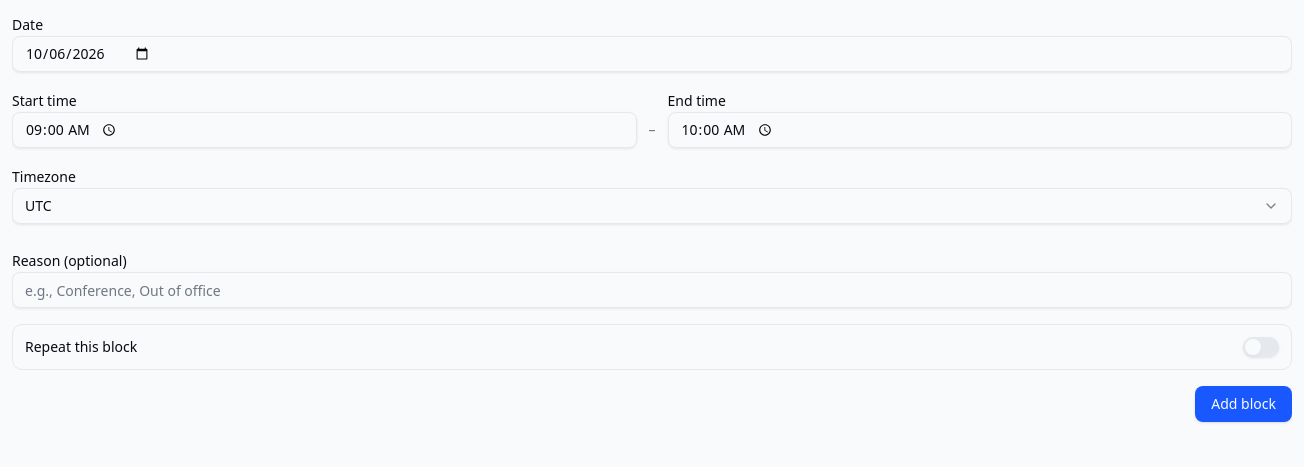
Test: AppointmentTypeBlockForm › create › start_time >= end_time is rejected by the form before any request
In the date field labelled "Date": (652, 54) [12,36,1292,72], type "2026-09-01"
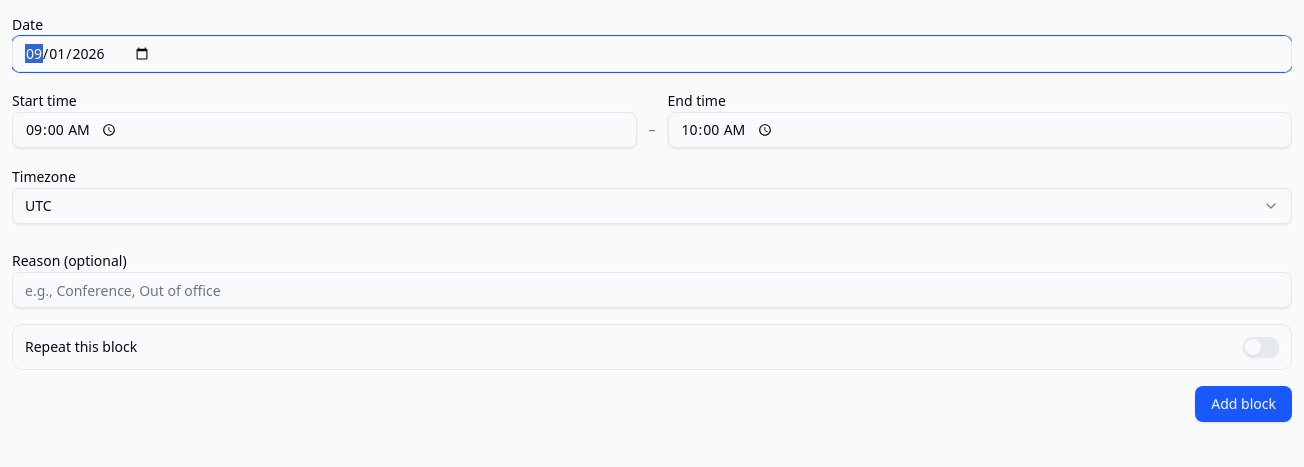
Replace the text in the time field labelled "Start time" with "17:00": (324, 130) [12,112,636,148]
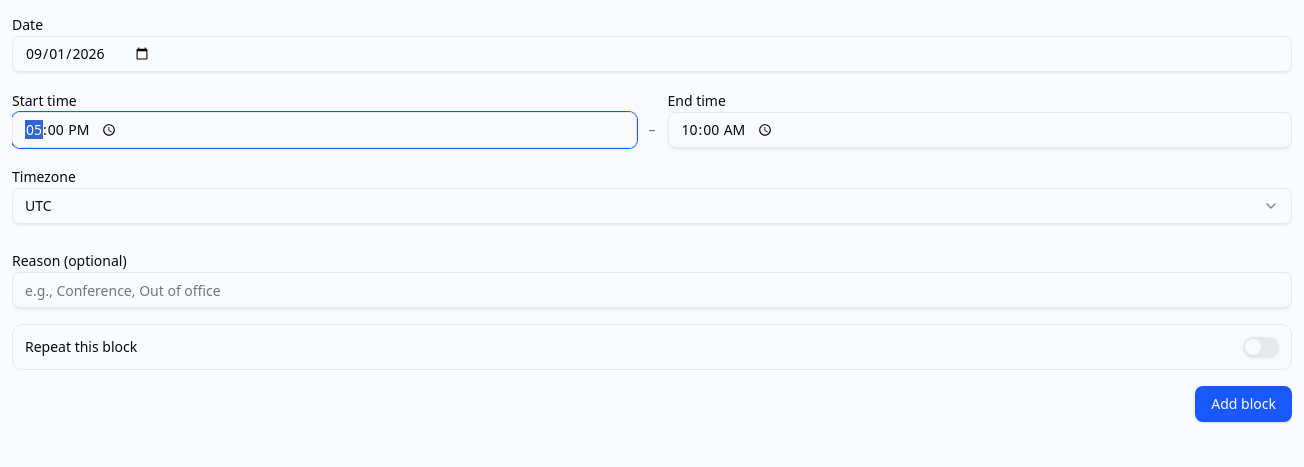
Replace the text in the time field labelled "End time" with "09:00": (980, 130) [668,112,1292,148]
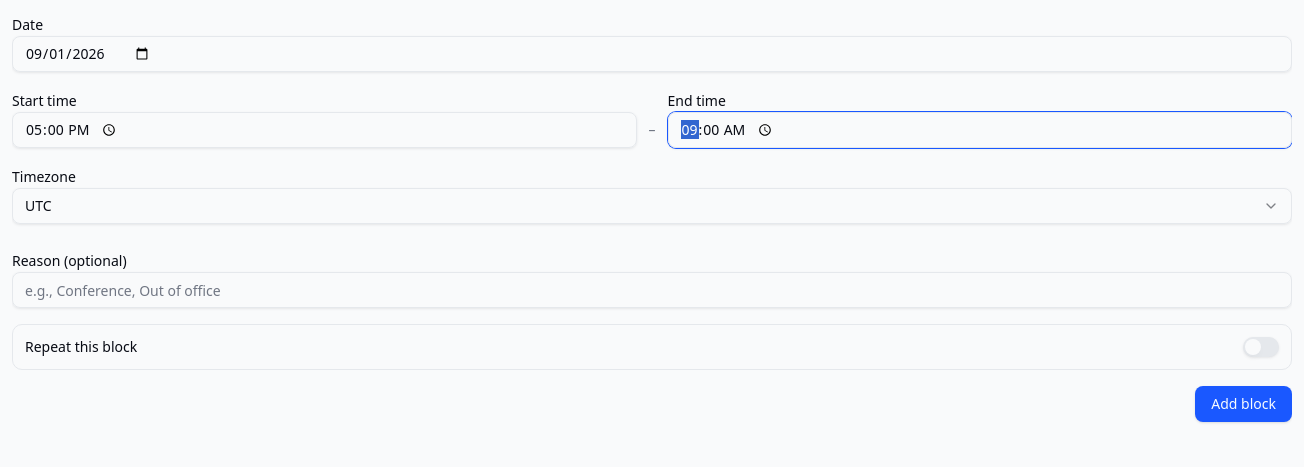
Click the button "Add block": (1244, 404) [1195,386,1292,422]
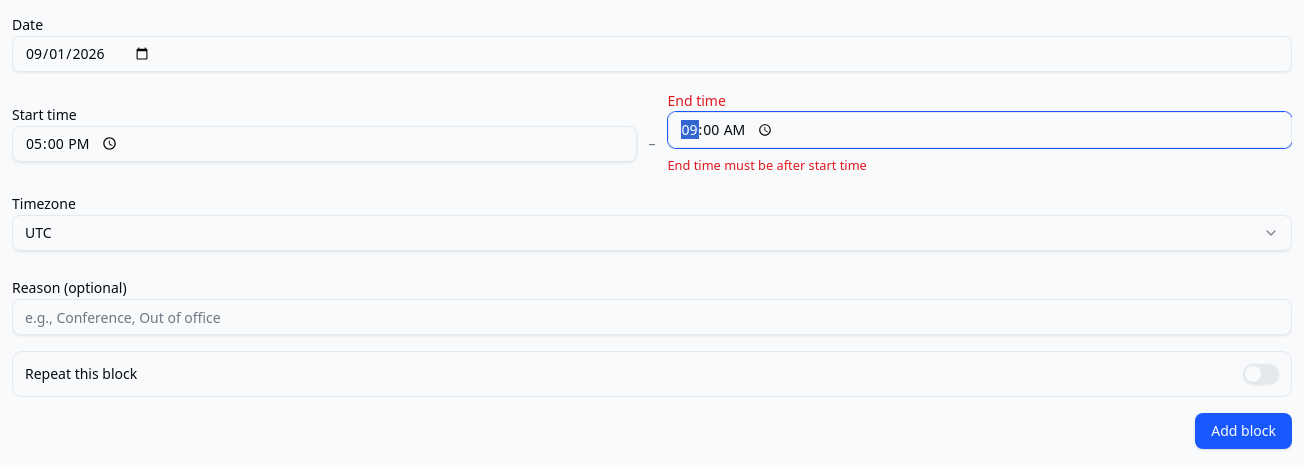
Expected: the text "End time must be after start time" is shown, [668,156,867,174]
